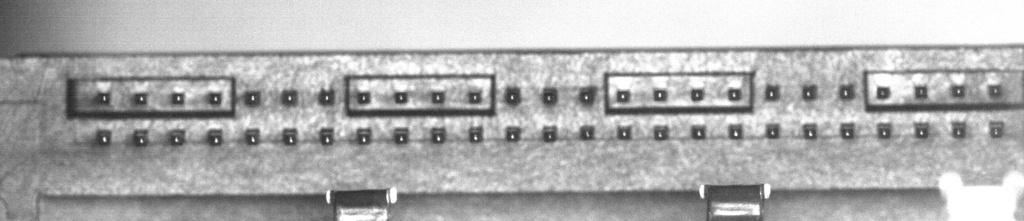pin_ok: (504, 85, 522, 104), (541, 86, 559, 104), (578, 86, 596, 104), (280, 88, 298, 105), (318, 87, 335, 105), (913, 122, 930, 139), (206, 128, 223, 145), (988, 121, 1005, 138), (95, 128, 112, 145), (243, 90, 261, 106), (951, 121, 967, 139), (133, 129, 149, 146), (319, 127, 335, 144), (801, 84, 818, 100), (839, 83, 855, 100), (244, 128, 260, 145), (282, 128, 298, 145), (393, 127, 409, 144), (505, 125, 521, 141), (169, 129, 185, 145), (430, 127, 446, 143), (356, 128, 372, 144), (727, 123, 743, 139), (616, 124, 632, 140), (542, 125, 557, 142), (877, 122, 892, 139), (468, 125, 483, 142), (765, 84, 780, 100), (579, 125, 595, 140), (653, 125, 669, 140), (840, 123, 855, 139), (802, 123, 817, 139), (467, 89, 483, 104), (913, 84, 929, 99), (691, 124, 706, 139), (727, 87, 742, 102), (690, 87, 705, 102), (170, 90, 185, 105), (987, 83, 1002, 98), (766, 123, 780, 139), (615, 89, 631, 103), (652, 87, 668, 101), (430, 90, 445, 104), (208, 91, 223, 105), (356, 90, 371, 104), (132, 92, 147, 106), (951, 84, 966, 98), (875, 85, 890, 99), (393, 90, 408, 103), (96, 91, 109, 103)
